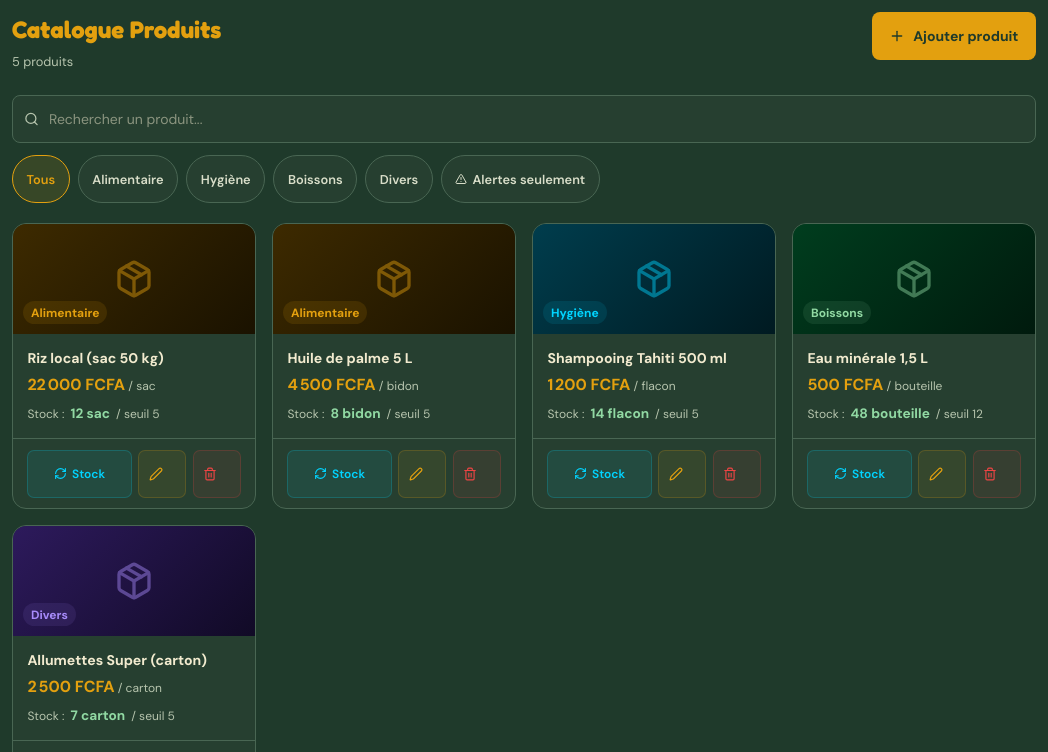
Test: ProduitsPage › 11 — filtre "Hygiène" : affiche Shampooing, masque Riz local
Click the button "Hygiène" at [226, 179], box [186,155,265,203]
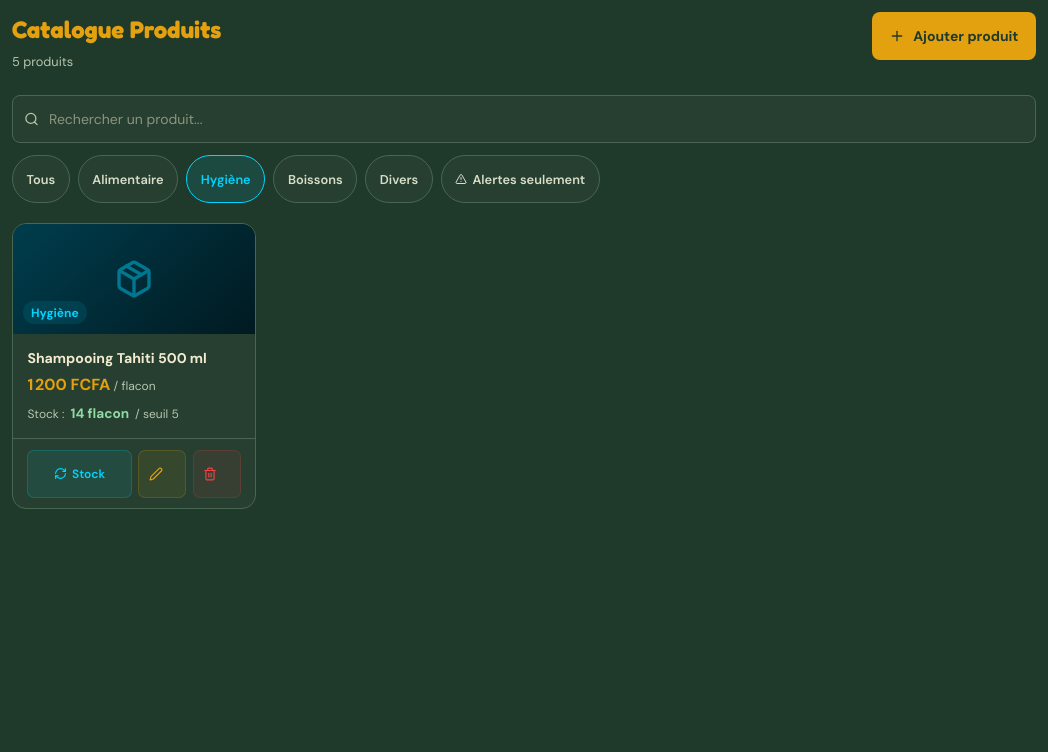
Expected: the text "Shampooing Tahiti 500 ml" is shown, [27,349,207,367]
Expected: the text "Riz local (sac 50 kg)" is gone
